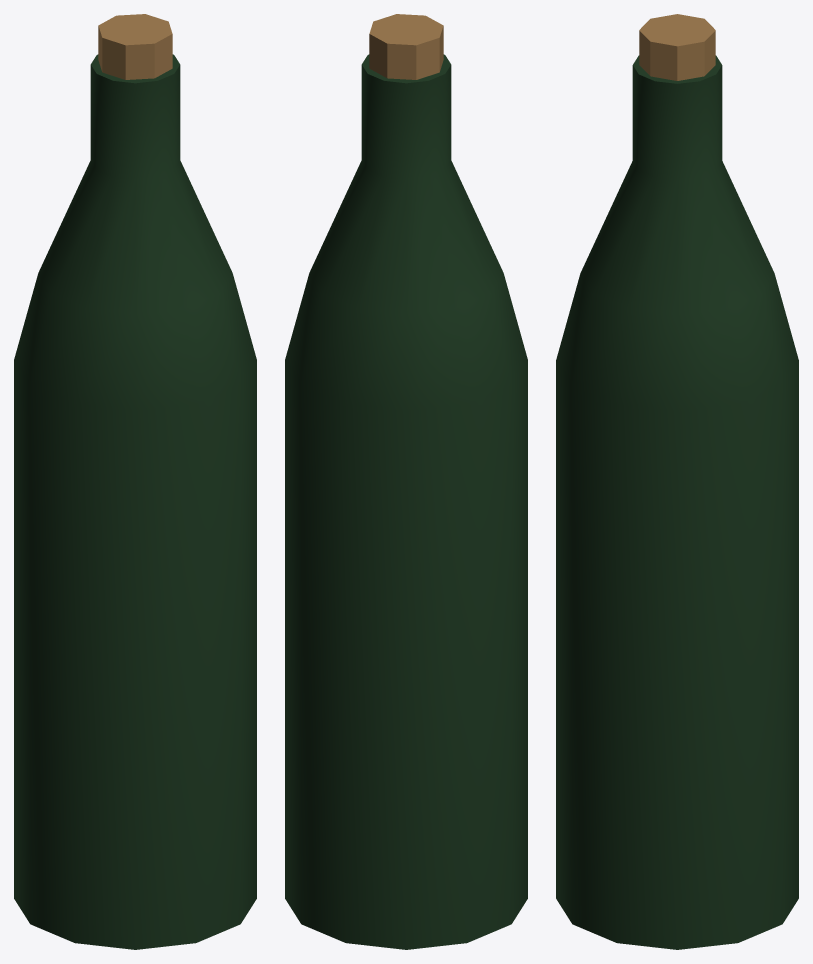
The model's file is tpl_dispensa_bottiglia_vino.glb.
The picture shows the model from 3 angles, left to right: view 1: azimuth 30°, elevation 25°; view 2: azimuth 150°, elevation 25°; view 3: azimuth 270°, elevation 25°; orthographic projection.
Parts seen in each view (by area): view 1: tpl_dispensa_bottiglia_vino; view 2: tpl_dispensa_bottiglia_vino; view 3: tpl_dispensa_bottiglia_vino.
Boxes of the visible parts, x1,y1,x2,y2 form: tpl_dispensa_bottiglia_vino: (14, 14, 256, 949); tpl_dispensa_bottiglia_vino: (285, 14, 527, 949); tpl_dispensa_bottiglia_vino: (556, 14, 798, 949).
Size of the model in its own units: 0.076 by 0.3 by 0.076.
